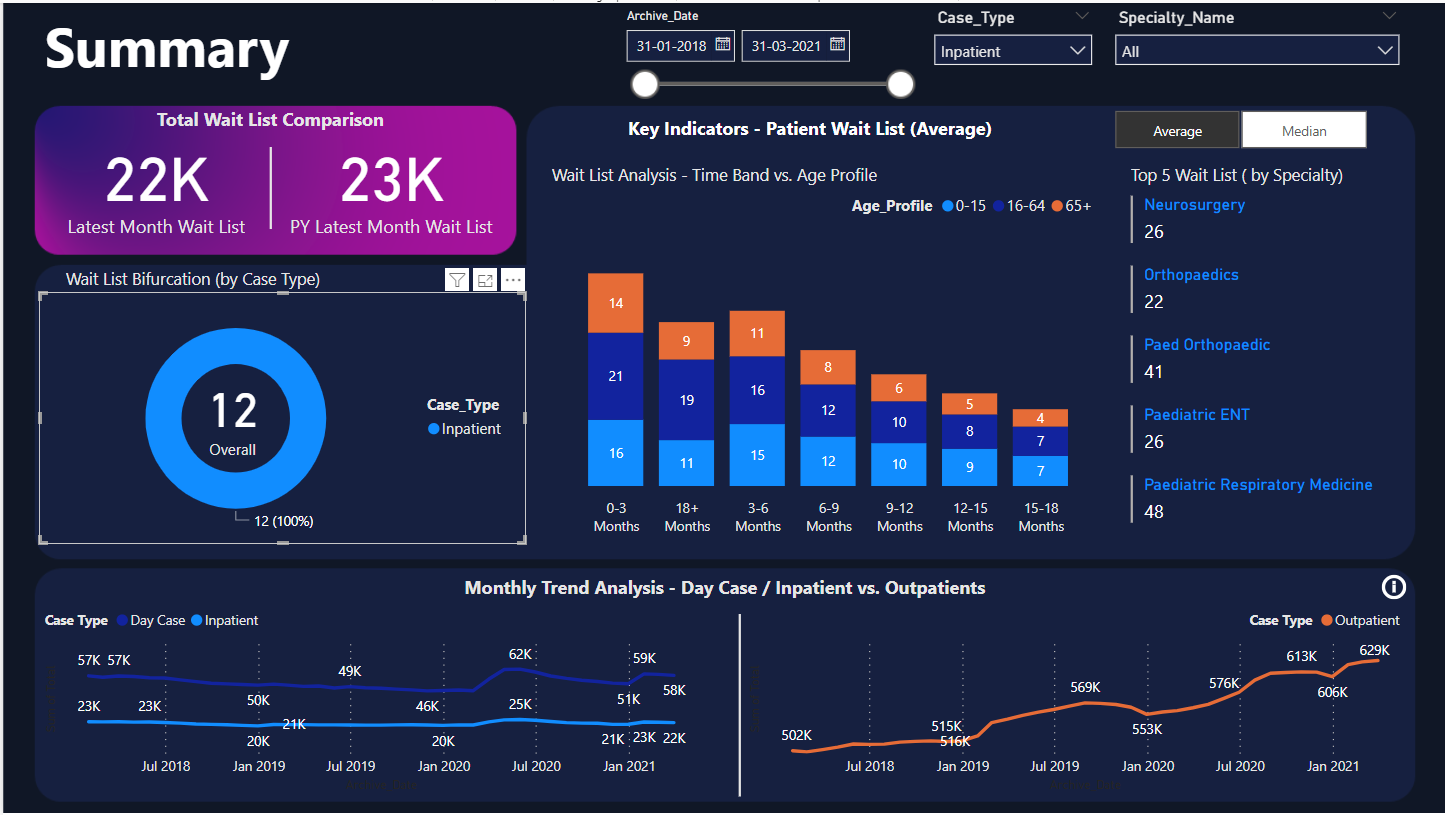

This screenshot's page, from the dashboard's own definition file:
{"tool":"powerbi","page":{"name":"Summary","canvas":[1280,720],"ordinal":0},"visuals":[{"type":"card","fields":{"Values":["All_Data.Latest Month Wait List"]},"box":[32,103.6,208,112],"z":0},{"type":"card","fields":{"Values":["All_Data.PY Latest Month Wait List"]},"box":[240,103.6,208,112],"z":1000},{"type":"slicer","fields":{"Values":["Calculation Method.Calc Method"]},"box":[960,89.1,272.7,47.3],"z":2000},{"type":"donutChart","fields":{"Category":["All_Data.Case_Type"],"Y":["All_Data.Avg/Med Wait List"]},"box":[32,256,432,224],"z":3000},{"type":"columnChart","fields":{"Y":["All_Data.Avg/Med Wait List"],"Category":["All_Data.Time_Bands"],"Series":["All_Data.Age_Profile"]},"box":[480,160,496,320],"z":4000},{"type":"multiRowCard","fields":{"Values":["All_Data.Specialty_Name","All_Data.Avg/Med Wait List"]},"box":[994.5,165.5,254.5,336.4],"z":5000},{"type":"card","fields":{"Values":["All_Data.Dynamic Title"]},"box":[479.6,89.3,472.1,46.9],"z":6000},{"type":"card","fields":{"Values":["All_Data.NoDataLeft"]},"box":[208.8,576.5,222.4,115],"z":6500},{"type":"lineChart","fields":{"Category":["All_Data.Archive_Date"],"Y":["Sum(All_Data.Total)"],"Series":["All_Data.Case_Type"]},"box":[32,528,592,176],"z":7000},{"type":"slicer","fields":{"Values":["All_Data.Archive_Date"]},"box":[540,0,276.4,107.3],"z":8000},{"type":"slicer","fields":{"Values":["All_Data.Case_Type"]},"box":[816,0,160,80],"z":9000},{"type":"slicer","fields":{"Values":["All_Data.Specialty_Name"]},"box":[976,0,272,80],"z":10000},{"type":"textbox","box":[32,0,400,80],"z":11000},{"type":"card","fields":{"Values":["All_Data.NoDataRight"]},"box":[847.3,576.5,222.4,115],"z":12000},{"type":"lineChart","fields":{"Category":["All_Data.Archive_Date"],"Y":["Sum(All_Data.Total)"],"Series":["All_Data.Case_Type"]},"box":[656,528,592,176],"z":13000},{"type":"card","fields":{"Values":["All_Data.Avg/Med Wait List"]},"box":[147.3,316.4,112.7,96.4],"z":14000},{"type":"shape","box":[209.1,127.3,56.4,72.7],"z":15000},{"type":"textbox","box":[78.2,87.3,318.2,40],"z":16000},{"type":"textbox","box":[254.5,501.8,770.9,40],"z":17000},{"type":"shape","box":[625.5,541.8,56.4,161.8],"z":18000},{"type":"textbox","box":[481.1,136.2,378.3,40.9],"z":19000},{"type":"textbox","box":[994.5,136.4,285.5,40],"z":20000},{"type":"textbox","box":[50.9,229.1,316.4,40],"z":21000},{"type":"actionButton","box":[1218,502.3,48.4,30.3],"z":23000}]}

Visuals, with their boxes in screenshot pixels (x1, y1, x2, y2), scaled from the page's 1280x720 canvas onto the 1445x815 screenshot:
card - All_Data.Latest Month Wait List: pyautogui.locateOnScreen(36, 117, 271, 244)
card - All_Data.PY Latest Month Wait List: pyautogui.locateOnScreen(271, 117, 506, 244)
slicer - Calculation Method.Calc Method: pyautogui.locateOnScreen(1084, 101, 1392, 154)
donutChart - All_Data.Case_Type x All_Data.Avg/Med Wait List: pyautogui.locateOnScreen(36, 290, 524, 543)
columnChart - All_Data.Avg/Med Wait List x All_Data.Time_Bands: pyautogui.locateOnScreen(542, 181, 1102, 543)
multiRowCard - All_Data.Specialty_Name x All_Data.Avg/Med Wait List: pyautogui.locateOnScreen(1123, 187, 1410, 568)
card - All_Data.Dynamic Title: pyautogui.locateOnScreen(541, 101, 1074, 154)
card - All_Data.NoDataLeft: pyautogui.locateOnScreen(236, 653, 487, 783)
lineChart - All_Data.Archive_Date x Sum(All_Data.Total): pyautogui.locateOnScreen(36, 598, 704, 797)
slicer - All_Data.Archive_Date: pyautogui.locateOnScreen(610, 0, 922, 121)
slicer - All_Data.Case_Type: pyautogui.locateOnScreen(921, 0, 1102, 91)
slicer - All_Data.Specialty_Name: pyautogui.locateOnScreen(1102, 0, 1409, 91)
textbox: pyautogui.locateOnScreen(36, 0, 488, 91)
card - All_Data.NoDataRight: pyautogui.locateOnScreen(957, 653, 1208, 783)
lineChart - All_Data.Archive_Date x Sum(All_Data.Total): pyautogui.locateOnScreen(741, 598, 1409, 797)
card - All_Data.Avg/Med Wait List: pyautogui.locateOnScreen(166, 358, 294, 467)
shape: pyautogui.locateOnScreen(236, 144, 300, 226)
textbox: pyautogui.locateOnScreen(88, 99, 447, 144)
textbox: pyautogui.locateOnScreen(287, 568, 1158, 613)
shape: pyautogui.locateOnScreen(706, 613, 770, 796)
textbox: pyautogui.locateOnScreen(543, 154, 970, 200)
textbox: pyautogui.locateOnScreen(1123, 154, 1444, 200)
textbox: pyautogui.locateOnScreen(57, 259, 415, 305)
actionButton: pyautogui.locateOnScreen(1375, 569, 1430, 603)
